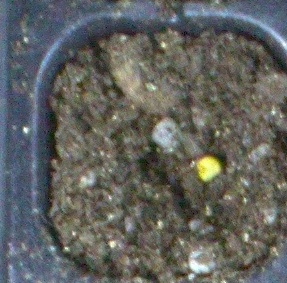chilli seed: (195, 154, 222, 182)
